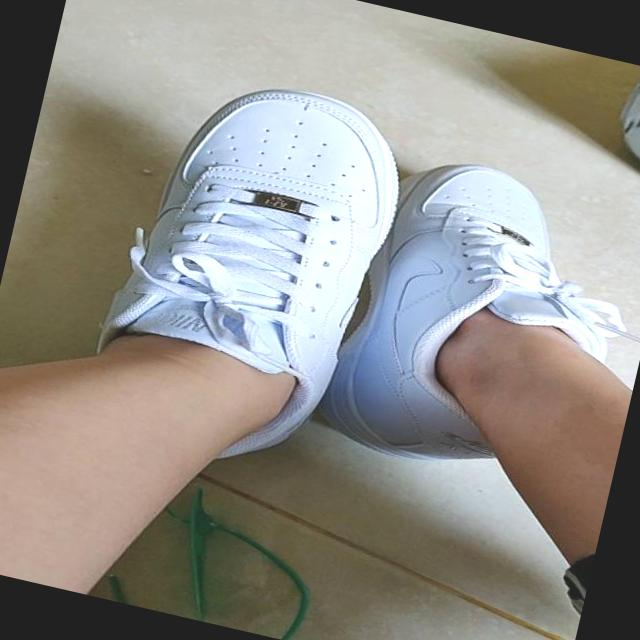nike_fake_airforce: (80, 55, 426, 490), (323, 138, 640, 495)
